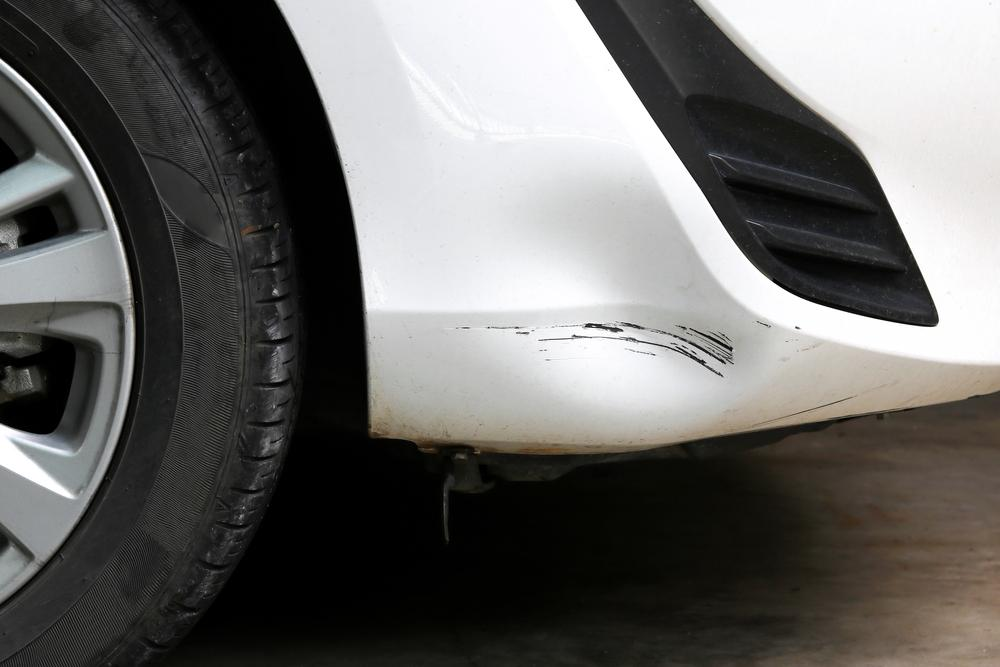dent: (462, 175, 774, 416)
